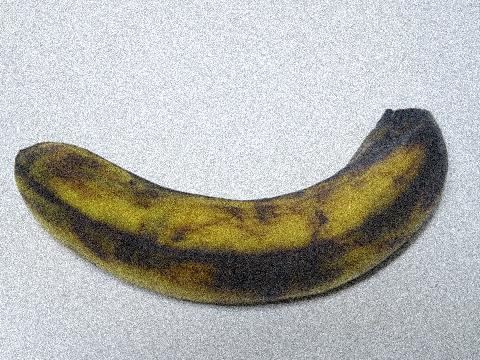overripe: (7, 104, 461, 316)
